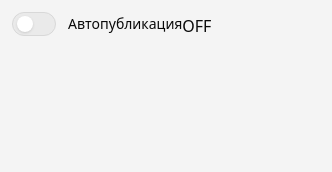
Test: Milestone 1 Stress Tests: Nothing UI & Shared Foundations › 3. Toggle Event Propagation & State Switch › switches state when button is clicked
The image size is (332, 172).
expect the text with test id "state" reads "OFF": met, box [182,15,211,37]
What coordinates should you click on to do the following:
click the switch
I would click on:
 (34, 24)
Its box is [12,12,56,36].
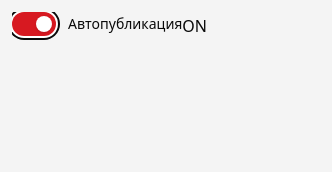
expect the text with test id "state" reads "ON": met, box [182,15,207,37]
What coordinates should you click on to do the following:
click the switch
I would click on:
 (34, 24)
Its box is [12,12,56,36].
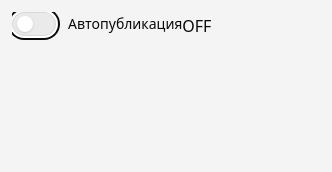
expect the text with test id "state" reads "OFF": met, box [182,15,211,37]
